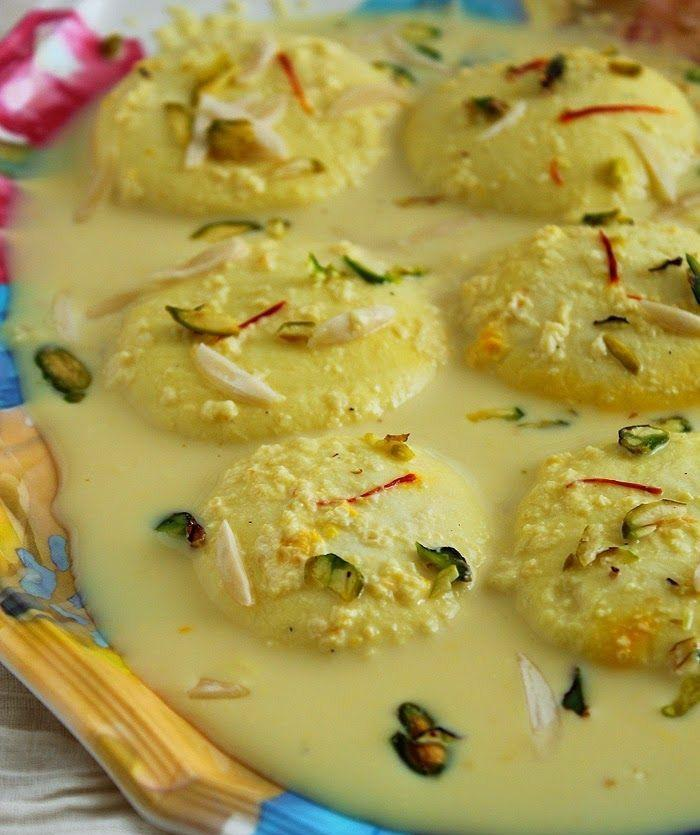RasMalai: (22, 2, 700, 835)
